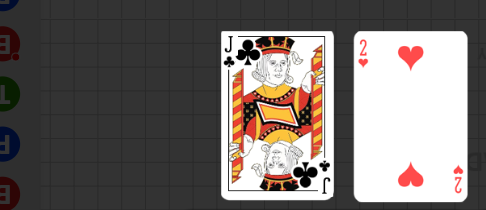2H: (358, 38, 370, 70)
JC: (222, 35, 237, 70)
